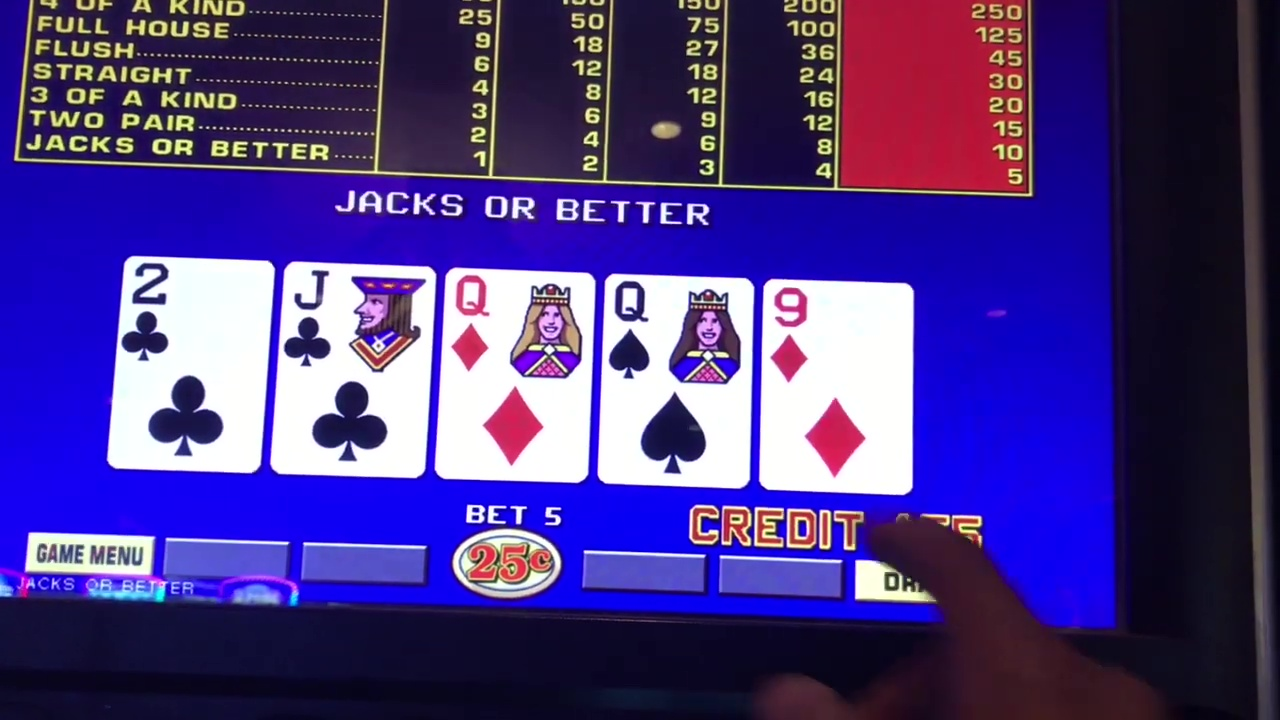C2: (124, 262, 260, 363)
CJ: (289, 267, 418, 368)
D9: (770, 287, 904, 386)
DQ: (447, 271, 584, 370)
SQ: (608, 278, 746, 381)
